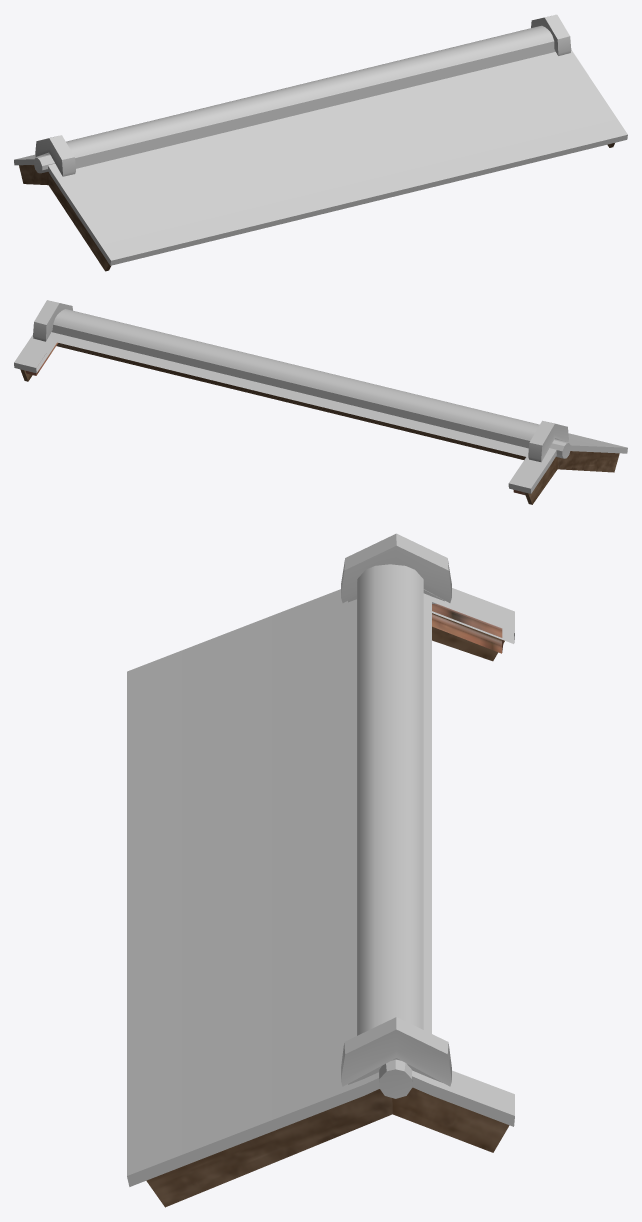
The model's file is ms_h01k_1_sunshade3.fbx.
3 renders of one model, top to bottom at view 1: azimuth 30°, elevation 25°; view 2: azimuth 150°, elevation 25°; view 3: azimuth 270°, elevation 25°, orthographic. The views are drawn at different scales.
Parts seen in each view (by area): view 1: ms_h01k_1_sunshade3; view 2: ms_h01k_1_sunshade3; view 3: ms_h01k_1_sunshade3.
Boxes of the visible parts, x1,y1,x2,y2 form: ms_h01k_1_sunshade3: (14,14,627,271); ms_h01k_1_sunshade3: (14,300,627,504); ms_h01k_1_sunshade3: (127,533,514,1207).
Size of the model in its own units: 602 by 98.98 by 192.
